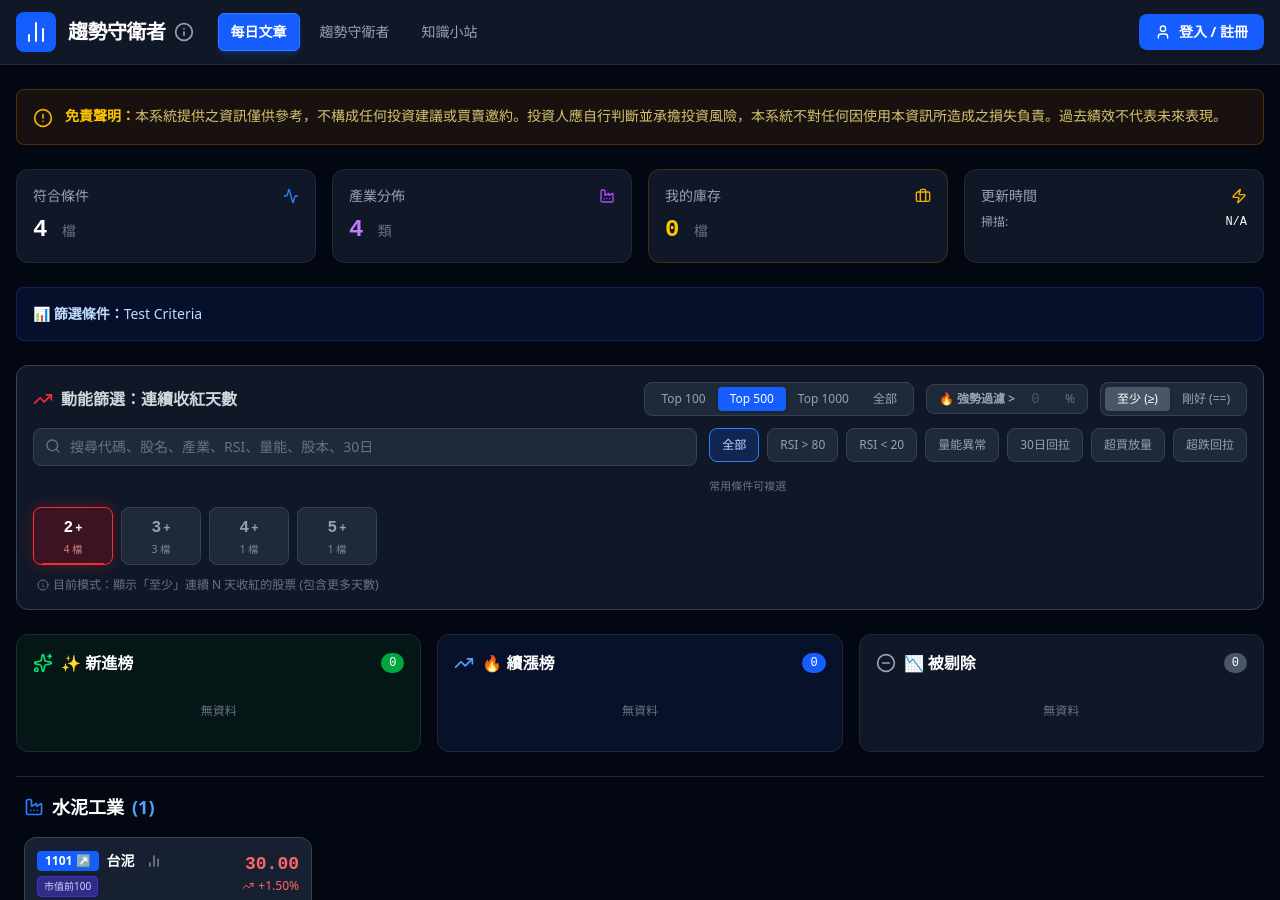
Test case: App Filter Logic Tests › allows selecting multiple quick filters at the same time
The image size is (1280, 900).
Click the button "RSI > 80" at (803, 445), box [767, 428, 838, 462]
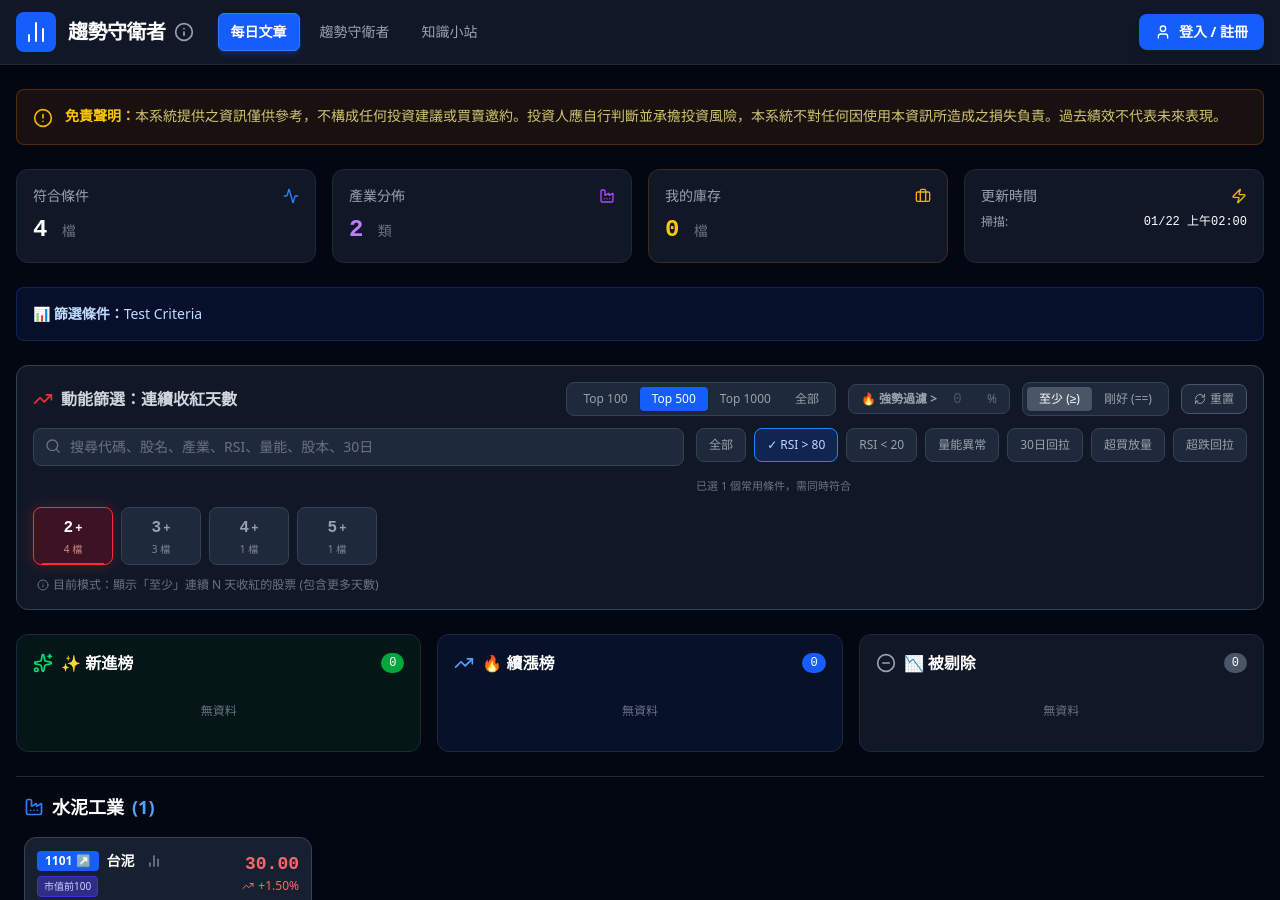
Click the button "量能異常" at (962, 445), box [925, 428, 999, 462]
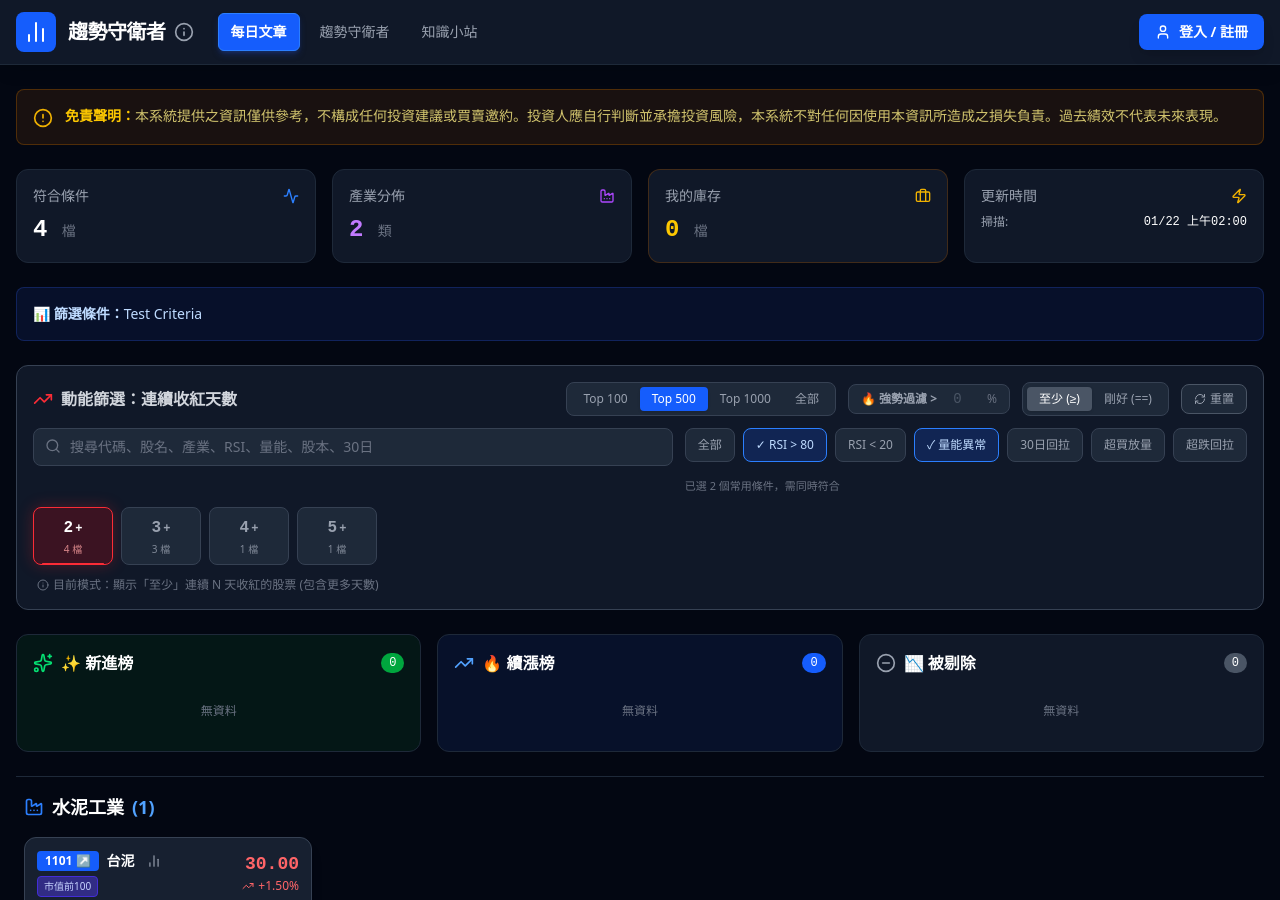
Expected: the heading "台泥" is shown, [107, 851, 135, 871]
Expected: the text "長榮" is not shown
Click the 2nd button "全部" at (710, 445), box [685, 428, 735, 462]
(page scrolled)
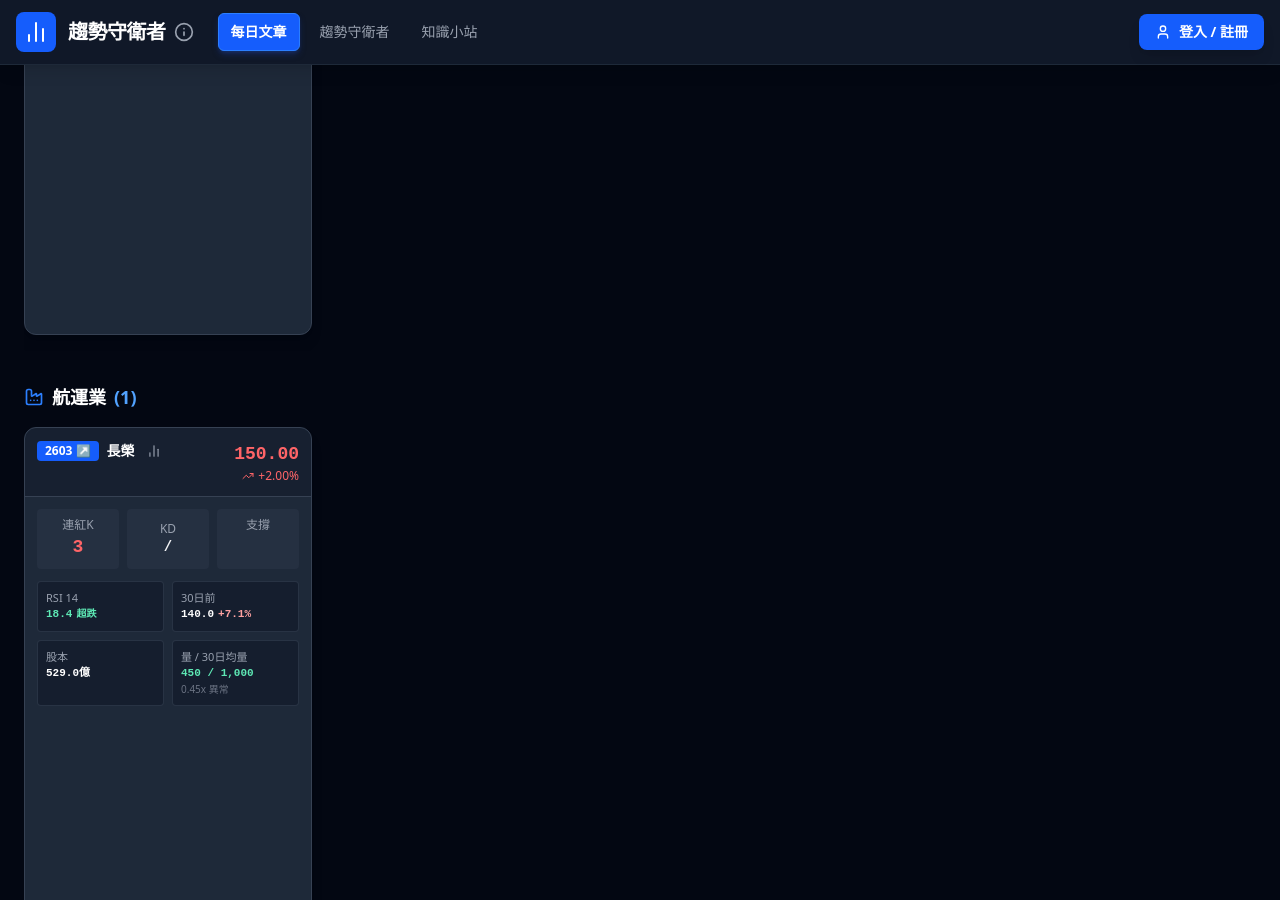
Expected: the heading "長榮" is shown, [107, 441, 135, 461]
